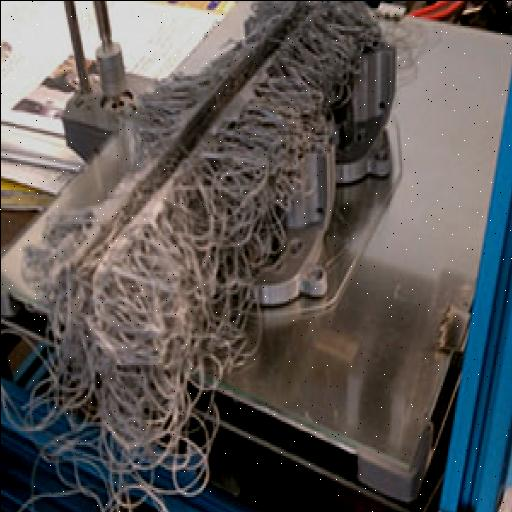spaghetti: (37, 0, 379, 476)
